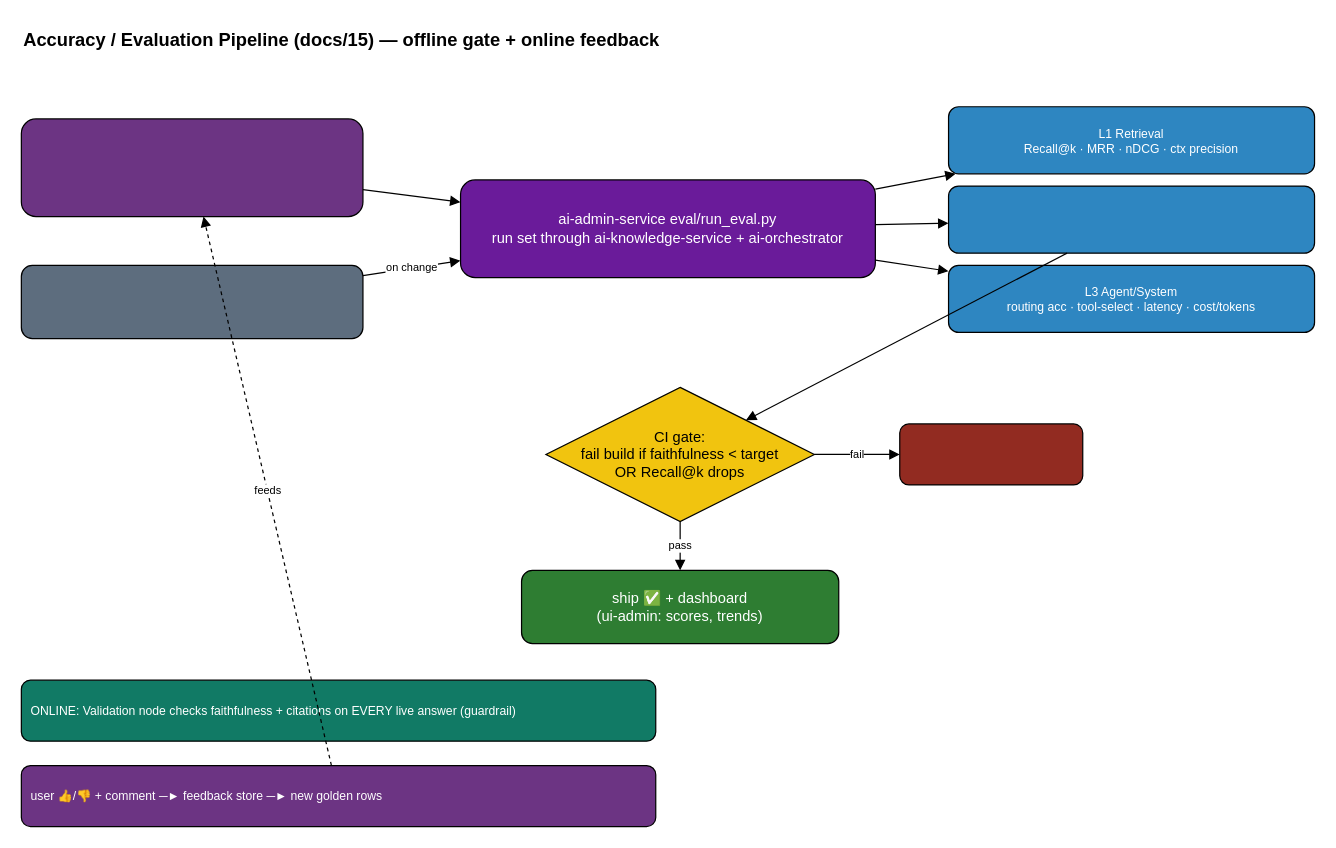
Some shapes in this 1336 by 848 pixel diagram are drawn without their labels. The shapes that lost their labels are listed below. From the top down, each one's centre as x and y in pixels, then its label:
At pixel 191 167: "Golden set question → expected doc_ids → reference answer (LangSmith dataset)".
At pixel 1131 219: "L2 Generation faithfulness · answer relevance · citation acc · correctness".
At pixel 191 301: "change to prompt / chunking / retrieval / rerank / model".
At pixel 991 454: "block merge 🚫".
